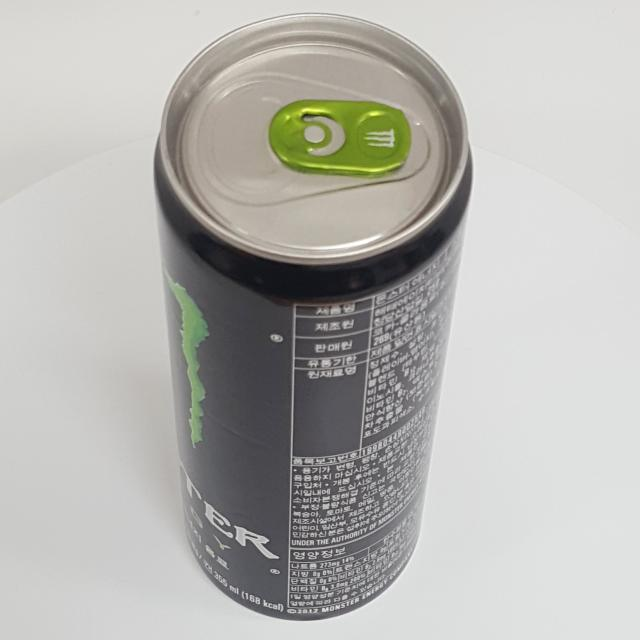--------355ML: (154, 12, 472, 621)
